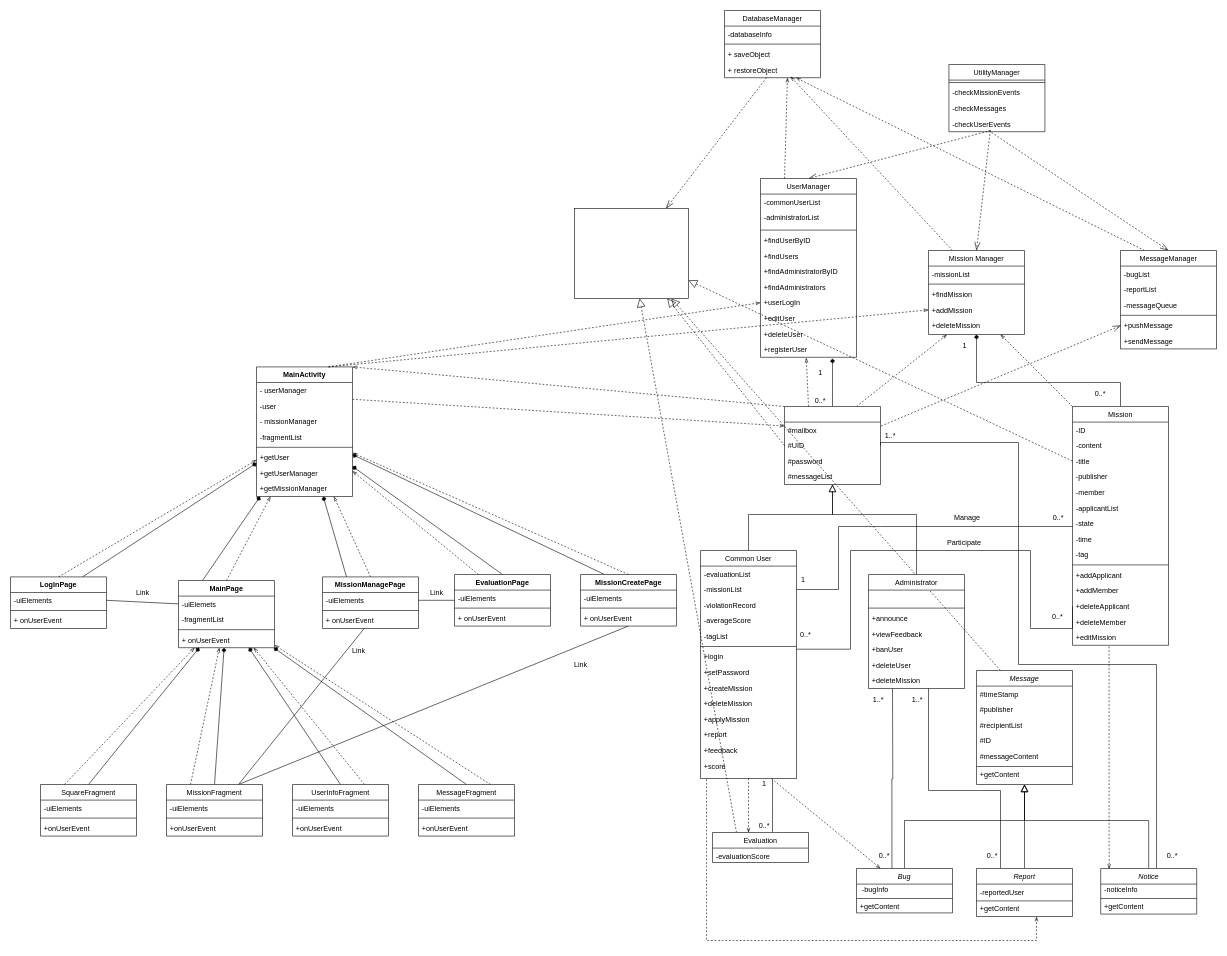
Image size: 1227x956. Some labels were removed from this diagram. Here are the shapes that lost their labels. From the top down, the centre of each, then its label:
At point 631,253: "<<Interface>> SavableObject + getClassName + save + restore".
At point 832,445: "User".
